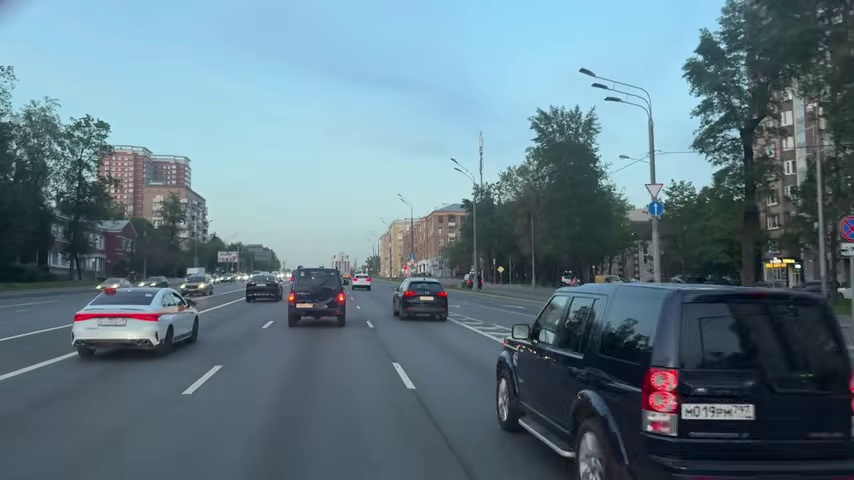apagada: (575, 64, 603, 88), (447, 155, 462, 173)
